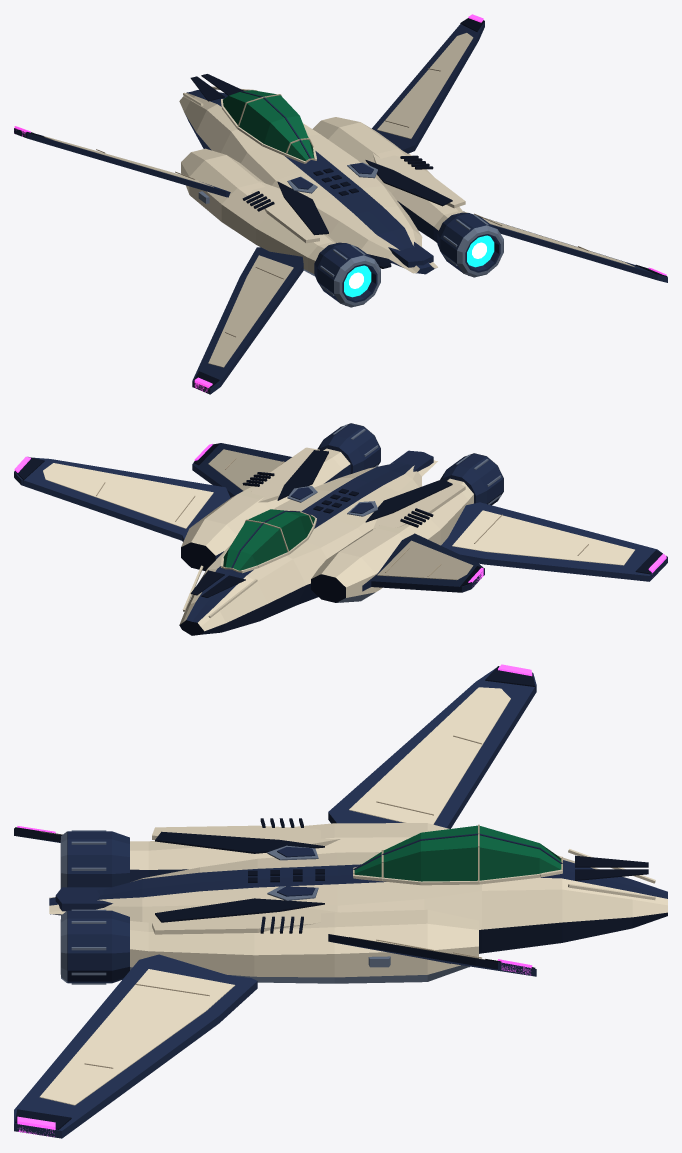
File: aurora.glb
3 views of the same model, one above another, from view 1: azimuth 30°, elevation 25°; view 2: azimuth 150°, elevation 25°; view 3: azimuth 270°, elevation 25° (orthographic). The views are drawn at different scales.
Parts seen in each view (by area): view 1: Hull.Center.MIRROR, Drive.Cowling.L, Drive.Cowling.R, Hull.Center.HALF, Wing.Aft.Armor.L, Wing.Aft.L, Wing.Fore.Armor.R, Canopy.Glass.MIRROR, Wing.Fore.R, Drive.NozzleHousing.L, Drive.NozzleHousing.R, Wing.Fore.L (+9 smaller); view 2: Hull.Center.MIRROR, Drive.Cowling.L, Wing.Aft.Armor.L, Wing.Fore.Armor.R, Wing.Aft.L, Drive.Cowling.R, Wing.Fore.R, Hull.Center.HALF, Canopy.Glass.MIRROR, Wing.Fore.Armor.L, Wing.Fore.L, Drive.NozzleHousing.L (+10 smaller); view 3: Hull.Center.HALF, Drive.Cowling.R, Wing.Aft.Armor.R, Wing.Aft.R, Wing.Fore.Armor.L, Canopy.Glass.HALF, Wing.Fore.L, Drive.Cowling.L, Hull.Center.MIRROR, Drive.NozzleHousing.R, Drive.NozzleHousing.L, Drive.DorsalArmor.R (+6 smaller).
Part boxes in pixels (bbox=[...]): Hull.Center.MIRROR: bbox=[179, 91, 425, 274]; Drive.Cowling.L: bbox=[181, 148, 335, 276]; Drive.Cowling.R: bbox=[312, 117, 463, 242]; Hull.Center.HALF: bbox=[192, 90, 437, 273]; Wing.Aft.Armor.L: bbox=[208, 255, 293, 367]; Wing.Aft.L: bbox=[192, 247, 303, 394]; Wing.Fore.Armor.R: bbox=[377, 33, 473, 138]; Canopy.Glass.MIRROR: bbox=[223, 92, 309, 160]; Wing.Fore.R: bbox=[372, 21, 484, 153]; Drive.NozzleHousing.L: bbox=[314, 242, 377, 302]; Drive.NozzleHousing.R: bbox=[437, 212, 500, 272]; Wing.Fore.L: bbox=[14, 128, 230, 197]; Hull.Center.MIRROR: bbox=[192, 460, 437, 635]; Drive.Cowling.L: bbox=[311, 478, 473, 602]; Wing.Aft.Armor.L: bbox=[452, 510, 634, 565]; Wing.Fore.Armor.R: bbox=[43, 463, 213, 528]; Wing.Aft.L: bbox=[441, 502, 667, 581]; Drive.Cowling.R: bbox=[181, 448, 350, 571]; Wing.Fore.R: bbox=[14, 457, 230, 541]; Hull.Center.HALF: bbox=[179, 461, 405, 635]; Canopy.Glass.MIRROR: bbox=[233, 511, 314, 570]; Wing.Fore.Armor.L: bbox=[377, 540, 473, 580]; Wing.Fore.L: bbox=[341, 533, 484, 602]; Drive.NozzleHousing.L: bbox=[440, 453, 503, 505]; Hull.Center.HALF: bbox=[49, 870, 667, 953]; Drive.Cowling.R: bbox=[130, 909, 478, 983]; Wing.Aft.Armor.R: bbox=[39, 969, 235, 1105]; Wing.Aft.R: bbox=[14, 954, 257, 1138]; Wing.Fore.Armor.L: bbox=[349, 687, 510, 824]; Canopy.Glass.HALF: bbox=[354, 835, 561, 881]; Wing.Fore.L: bbox=[328, 668, 536, 828]; Drive.Cowling.L: bbox=[130, 823, 448, 882]; Hull.Center.MIRROR: bbox=[49, 852, 667, 902]; Drive.NozzleHousing.R: bbox=[67, 910, 129, 983]; Drive.NozzleHousing.L: bbox=[67, 831, 129, 887]; Drive.DorsalArmor.R: bbox=[152, 907, 339, 934].
Size of the model in its own units: 13.25 by 3.74 by 12.4.
